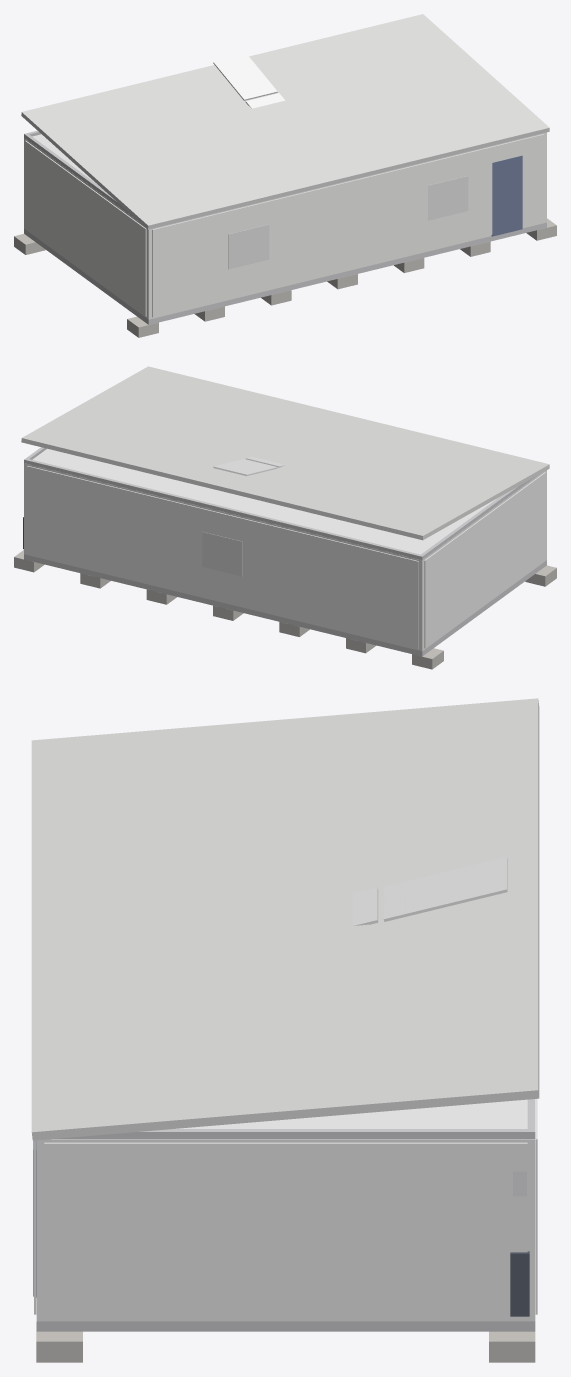
File: Studio-40-SlopingRoof+FullSolar-LOD1.glb
3 views of the same model, one above another, from view 1: azimuth 30°, elevation 25°; view 2: azimuth 150°, elevation 25°; view 3: azimuth 270°, elevation 25° (orthographic). The views are drawn at different scales.
Visible parts, largest first — view 1: RoofSlopingUpgrade, ExteriorPanelsStandard, BaseFrame, WindowsStandard, FoundationBlocks, ExteriorShell, EntryDoor, SolarPanelArray, TopFrame; view 2: ExteriorPanelsStandard, RoofSlopingUpgrade, InteriorCeiling, TopFrame, ExteriorShell, BaseFrame, FoundationBlocks, WindowsStandard, SolarPanelArray; view 3: RoofSlopingUpgrade, ExteriorPanelsStandard, ExteriorShell, BaseFrame, SolarPanelArray, InteriorCeiling, TopFrame, FoundationBlocks, SolarBattery.
Boxes of the visible parts, bbox=[...] form: RoofSlopingUpgrade: bbox=[21, 14, 549, 229]; ExteriorPanelsStandard: bbox=[25, 134, 544, 317]; BaseFrame: bbox=[24, 222, 546, 324]; WindowsStandard: bbox=[228, 176, 468, 269]; FoundationBlocks: bbox=[14, 218, 556, 337]; ExteriorShell: bbox=[24, 132, 546, 319]; EntryDoor: bbox=[491, 155, 522, 236]; SolarPanelArray: bbox=[213, 54, 285, 108]; TopFrame: bbox=[24, 130, 136, 219]; ExteriorPanelsStandard: bbox=[26, 465, 545, 648]; RoofSlopingUpgrade: bbox=[21, 366, 549, 540]; InteriorCeiling: bbox=[32, 448, 498, 554]; TopFrame: bbox=[24, 447, 538, 559]; ExteriorShell: bbox=[24, 463, 546, 651]; BaseFrame: bbox=[24, 554, 546, 656]; FoundationBlocks: bbox=[14, 550, 556, 669]; WindowsStandard: bbox=[202, 532, 242, 576]; SolarPanelArray: bbox=[213, 456, 284, 476]; RoofSlopingUpgrade: bbox=[31, 698, 539, 1140]; ExteriorPanelsStandard: bbox=[34, 1098, 537, 1318]; ExteriorShell: bbox=[36, 1139, 535, 1321]; BaseFrame: bbox=[36, 1321, 535, 1331]; SolarPanelArray: bbox=[353, 856, 507, 925]; InteriorCeiling: bbox=[176, 1099, 527, 1128]; TopFrame: bbox=[55, 1099, 535, 1138]; FoundationBlocks: bbox=[36, 1297, 535, 1362]; SolarBattery: bbox=[510, 1251, 529, 1316].
Size of the model in its own units: 12.49 by 4.07 by 6.56.
